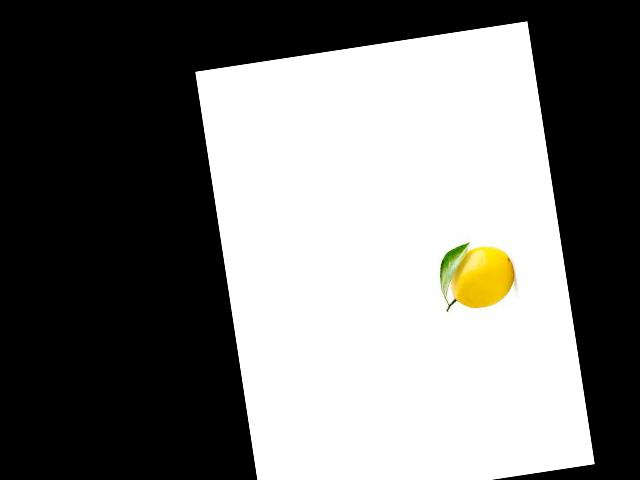lemon: (440, 238, 524, 316)
